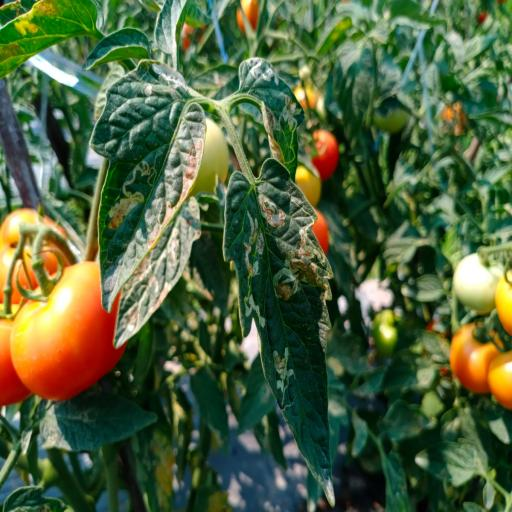Leaf Miner: (222, 158, 337, 512), (90, 58, 206, 316), (237, 55, 305, 181)
